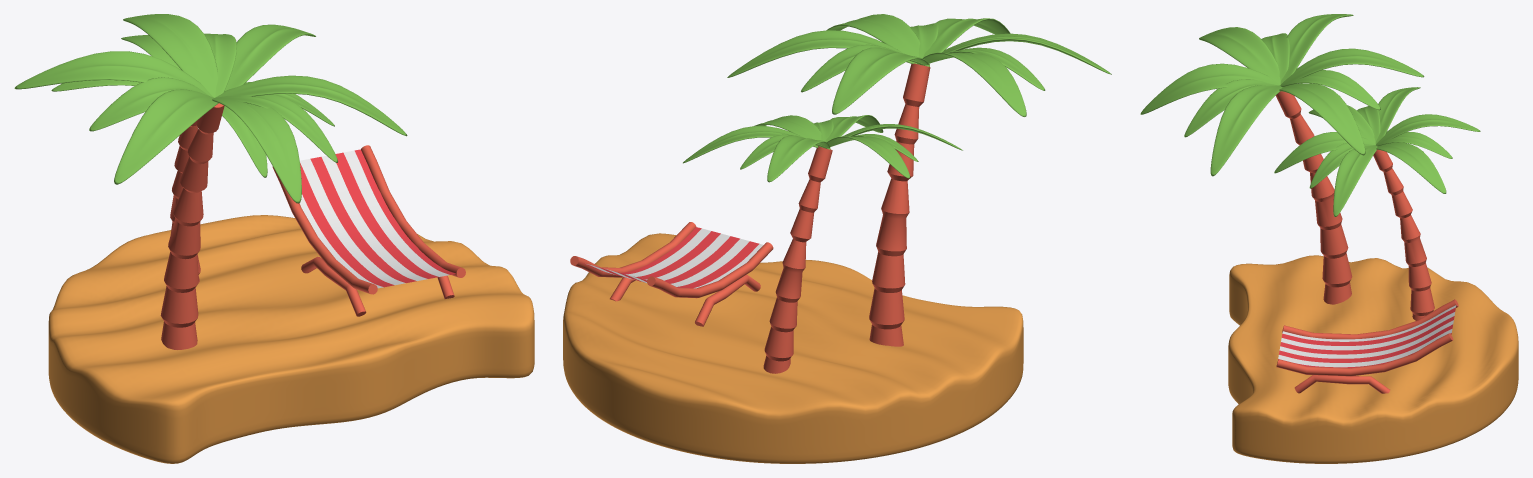
Rendered from GoodBeach3.glb.
3 renders of one model, left to right at view 1: azimuth 30°, elevation 25°; view 2: azimuth 150°, elevation 25°; view 3: azimuth 270°, elevation 25°, orthographic. The views are drawn at different scales.
Visible parts, largest first — view 1: Roundcube, Vert, Cylinder, Vert.001, Plane.004, Plane.005, Plane, Plane.003, Plane.002, Plane.001, Plane.008, Plane.007 (+5 smaller); view 2: Roundcube, Cylinder, Cylinder.001, Vert, Vert.001, Plane, Plane.001, Plane.005, Plane.002, Plane.003, Plane.009, Plane.004 (+7 smaller); view 3: Roundcube, Vert, Cylinder, Vert.001, Cylinder.001, Plane.002, Plane.003, Plane.001, Plane.004, Plane, Plane.005, Plane.011 (+11 smaller).
Part boxes in pixels (x1,y1,x2,y2): Roundcube: (48,215,534,463); Vert: (299,149,455,288); Cylinder: (160,103,224,349); Vert.001: (272,145,465,316); Plane.004: (114,89,218,184); Plane.005: (14,51,213,97); Plane: (123,14,217,97); Plane.003: (212,97,301,203); Plane.002: (216,75,407,136); Plane.001: (225,24,315,90); Plane.008: (89,77,208,131); Plane.007: (217,94,337,162); Roundcube: (563,233,1023,463); Cylinder: (869,63,930,346); Cylinder.001: (763,146,832,373); Vert: (580,227,763,288); Vert.001: (570,222,773,326); Plane: (832,47,928,114); Plane.001: (727,30,916,77); Plane.005: (917,52,1026,116); Plane.002: (827,14,929,68); Plane.003: (923,18,1010,65); Plane.009: (767,135,829,182); Plane.004: (921,33,1111,74); Roundcube: (1228,255,1518,463); Vert: (1278,305,1456,368); Cylinder: (1275,91,1352,304); Vert.001: (1276,299,1458,393); Cylinder.001: (1373,149,1434,320); Plane.002: (1210,85,1282,176); Plane.003: (1140,63,1279,114); Plane.001: (1279,83,1365,155); Plane.004: (1199,27,1280,84); Plane: (1280,48,1424,85); Plane.005: (1280,14,1353,84); Plane.011: (1333,145,1377,216).
Size of the model in its own units: 8.9 by 6.67 by 7.82.
